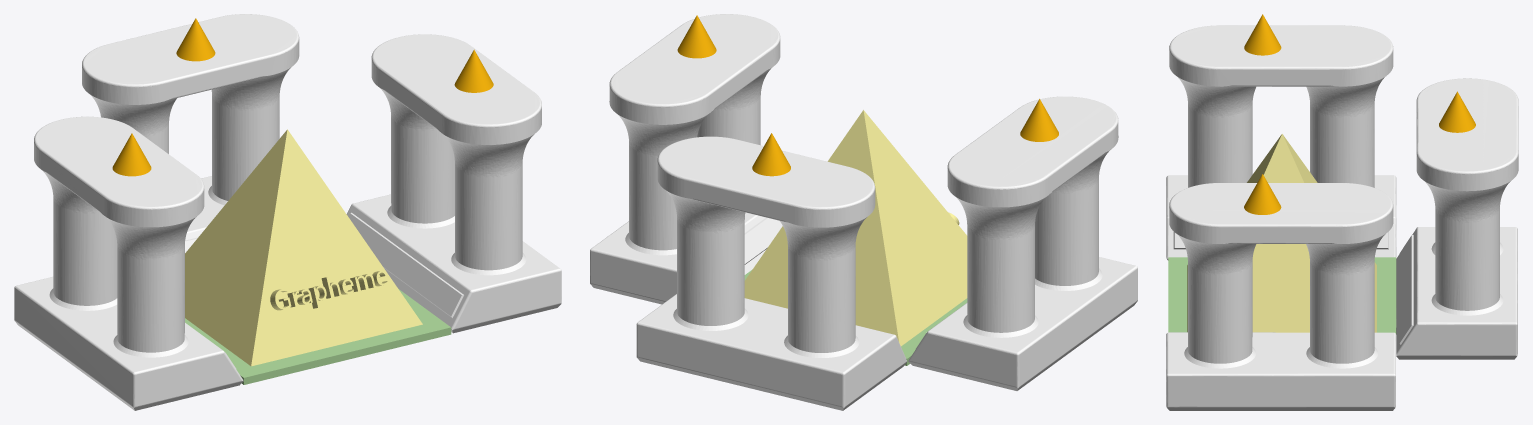
The model's file is Pyramid Statue.fbx.
3 renders of one model, left to right at view 1: azimuth 30°, elevation 25°; view 2: azimuth 150°, elevation 25°; view 3: azimuth 270°, elevation 25°, orthographic. The views are drawn at different scales.
Visible parts, largest first — view 1: Origin; view 2: Origin; view 3: Origin.
Part boxes in pixels (bbox=[...]): Origin: bbox=[14, 14, 561, 410]; Origin: bbox=[590, 14, 1137, 410]; Origin: bbox=[1166, 14, 1518, 410].
Size of the model in its own units: 2099 by 1079 by 1558.
